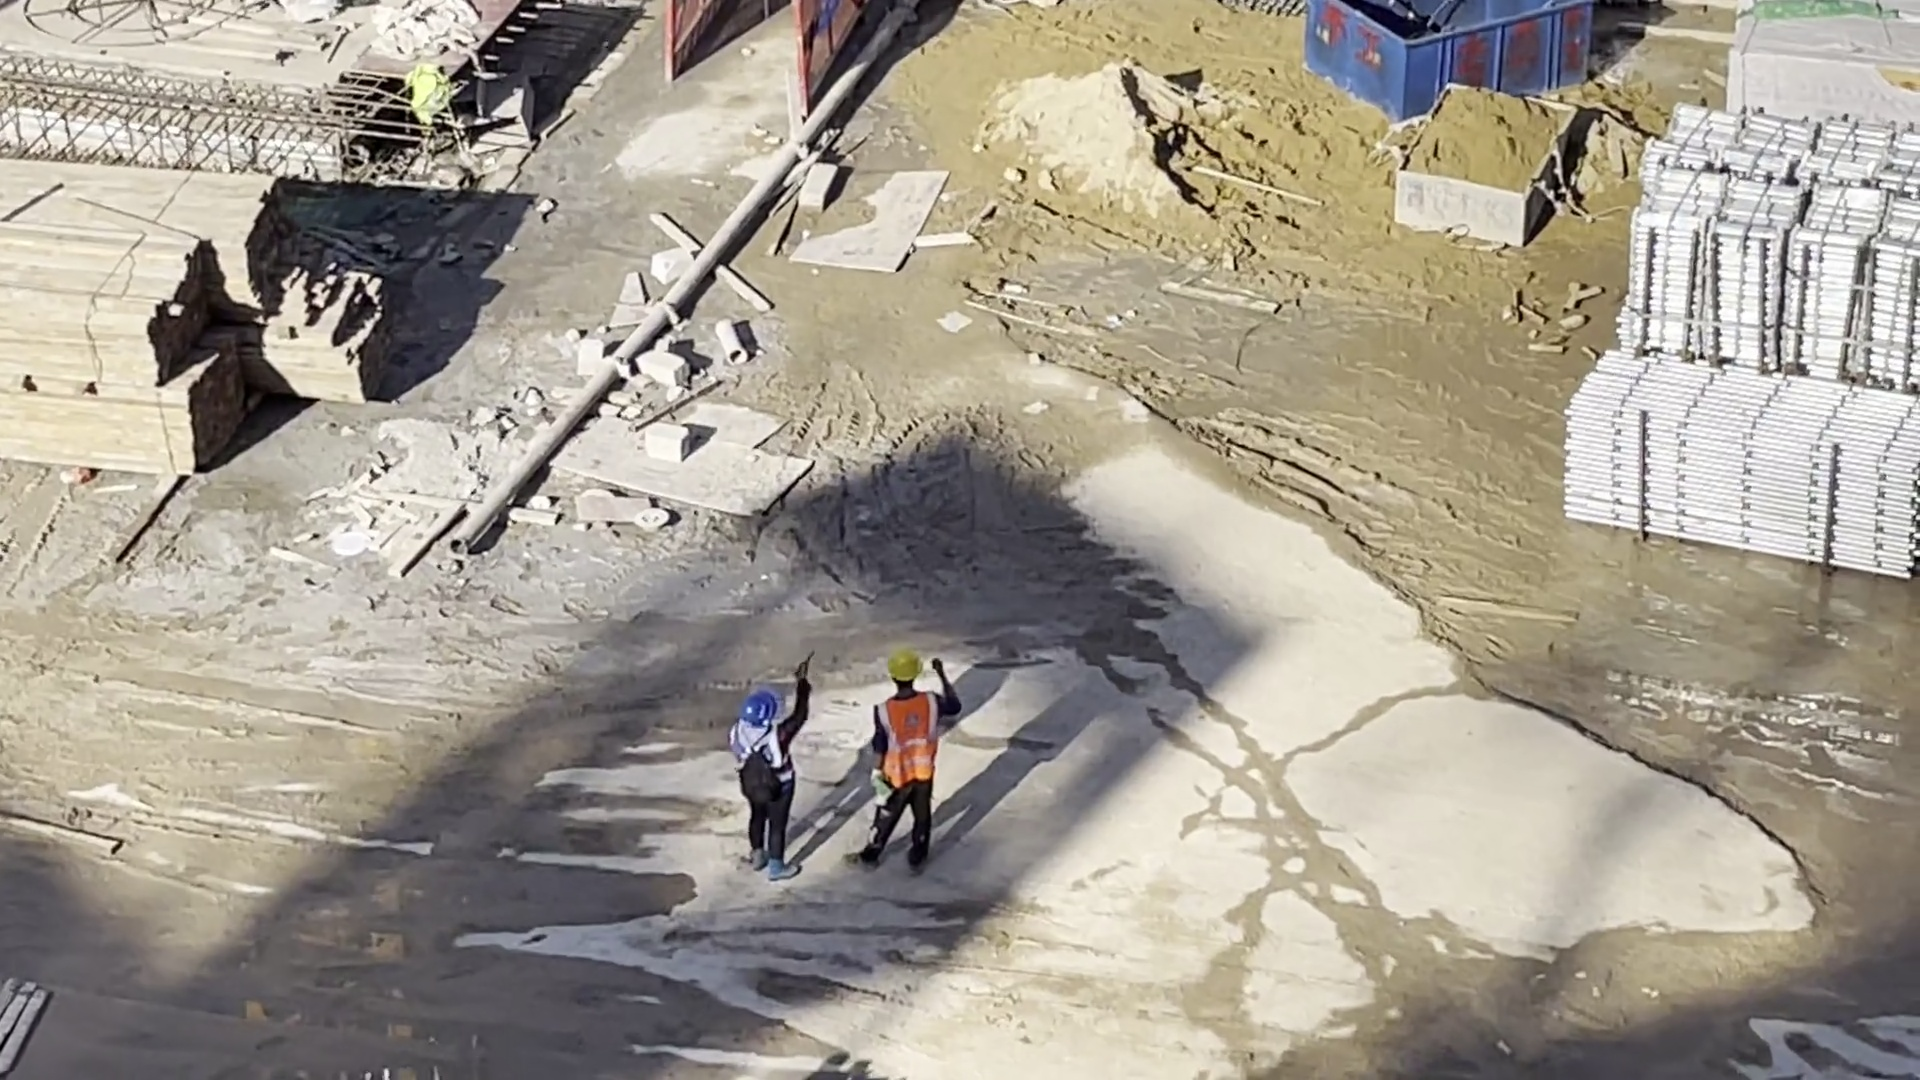fence: (669, 3, 882, 93)
helmet: (741, 692, 778, 726), (887, 650, 923, 679)
hopper: (1305, 1, 1590, 123), (1396, 80, 1577, 246)
person: (867, 650, 948, 873), (732, 687, 813, 879)
scaffold: (1569, 346, 1920, 580), (1632, 126, 1920, 369)
vest: (879, 693, 936, 783), (740, 726, 790, 777)
wood: (1, 161, 279, 461)
